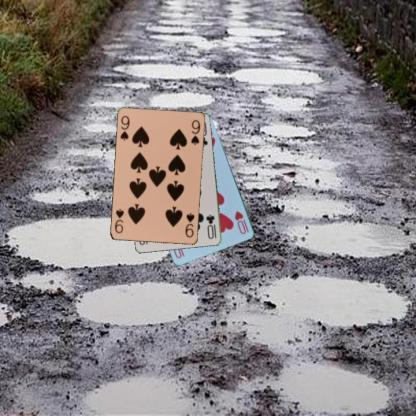10c: (203, 211, 218, 240)
10h: (232, 208, 250, 236)
9s: (182, 210, 196, 239), (118, 113, 130, 142)
